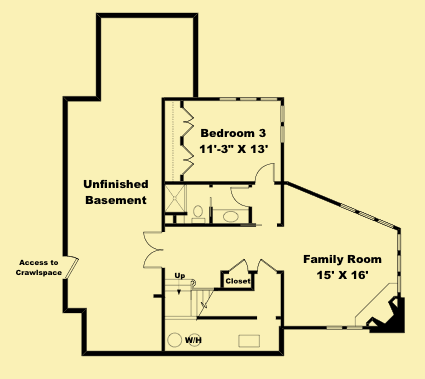door: (141, 231, 163, 270), (252, 161, 276, 184), (61, 252, 80, 279), (180, 107, 195, 138), (229, 186, 250, 208), (180, 145, 195, 175), (226, 257, 249, 274), (256, 257, 276, 273)
large_sink: (188, 203, 207, 223)
small_sink: (212, 208, 249, 224)
stairs: (165, 273, 215, 319)
window: (218, 95, 279, 104), (322, 323, 364, 334), (396, 232, 402, 294), (277, 103, 286, 144)
